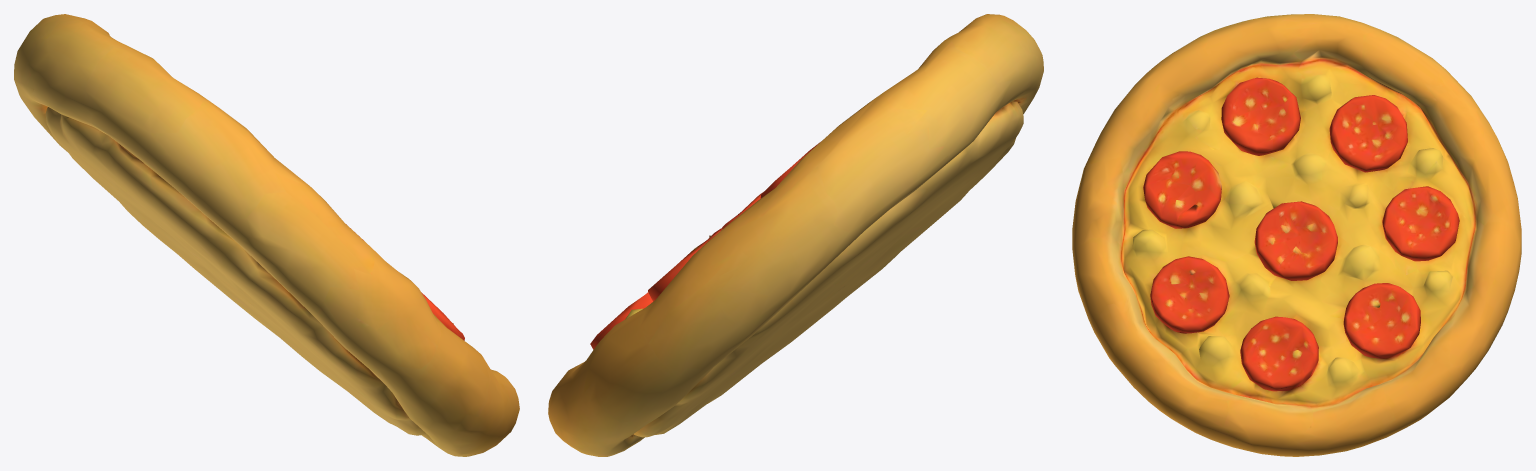
File: food_pizza.glb
3 renders of one model, left to right at view 1: azimuth 30°, elevation 25°; view 2: azimuth 150°, elevation 25°; view 3: azimuth 270°, elevation 25°, orthographic. The views are drawn at different scales.
Parts seen in each view (by area): view 1: tripo_node_d3f6229d-d58f-41fa-bba1-579a95a2e96c; view 2: tripo_node_d3f6229d-d58f-41fa-bba1-579a95a2e96c; view 3: tripo_node_d3f6229d-d58f-41fa-bba1-579a95a2e96c.
Part boxes in pixels (<box>): tripo_node_d3f6229d-d58f-41fa-bba1-579a95a2e96c: <box>14,14,519,456</box>; tripo_node_d3f6229d-d58f-41fa-bba1-579a95a2e96c: <box>548,14,1043,456</box>; tripo_node_d3f6229d-d58f-41fa-bba1-579a95a2e96c: <box>1072,14,1521,456</box>.
Size of the model in its own units: 0.9274 by 1 by 1.24.
Materials: 1 (1 with a texture image).
